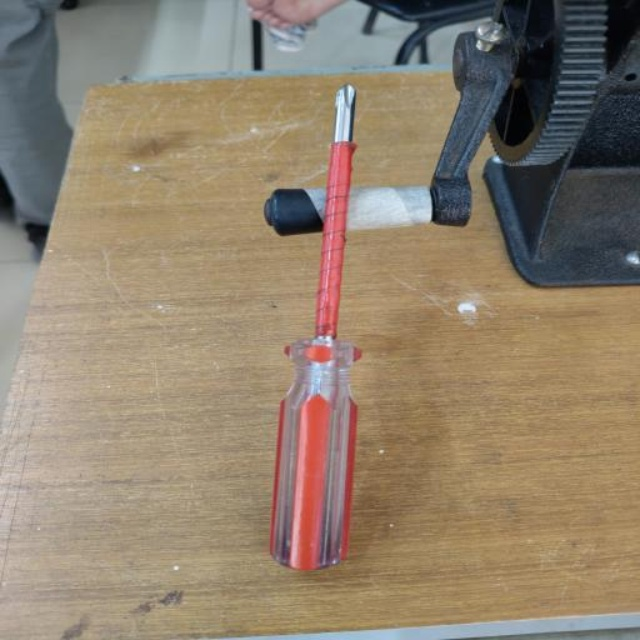screwdriver: (273, 81, 362, 575)
